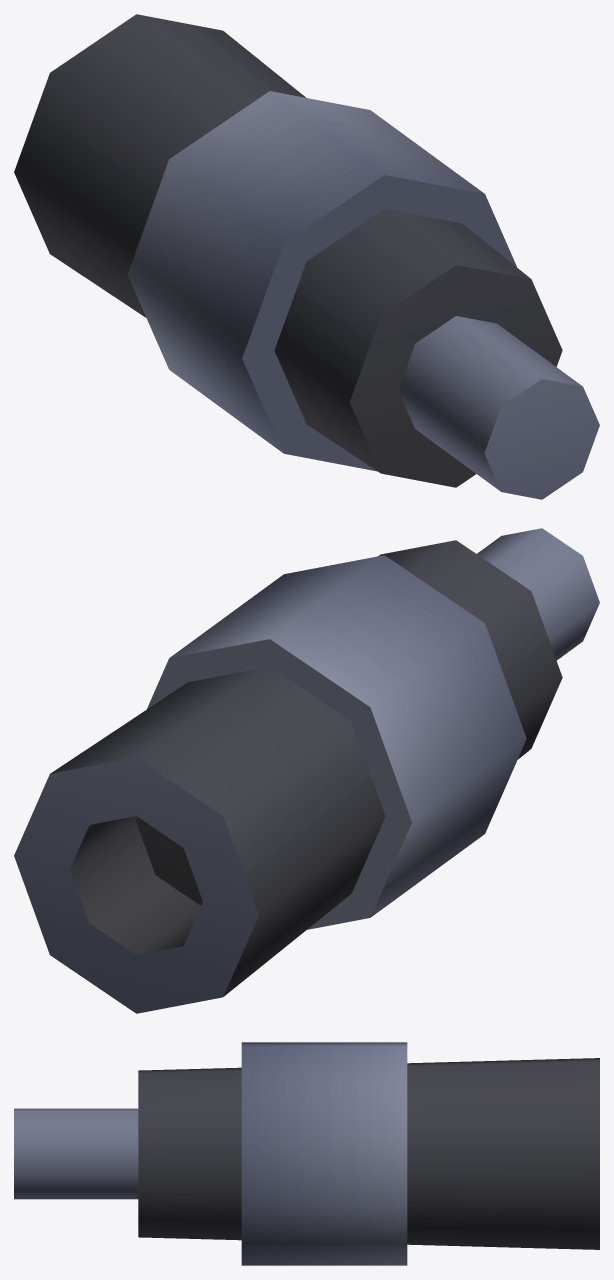
The model's file is silencer-larger.glb.
The picture shows the model from 3 angles, top to bottom: view 1: azimuth 30°, elevation 25°; view 2: azimuth 150°, elevation 25°; view 3: azimuth 270°, elevation 25°; orthographic projection. The views are drawn at different scales.
Parts seen in each view (by area): view 1: silencer-larger; view 2: silencer-larger; view 3: silencer-larger.
Boxes of the visible parts, <box> form: silencer-larger: <box>14,14,599,499</box>; silencer-larger: <box>14,528,599,1013</box>; silencer-larger: <box>14,1042,599,1265</box>.
Bounding box in the file's own units: 0.1146 × 0.1146 × 0.283.
Materials: 1 (1 with a texture image).
